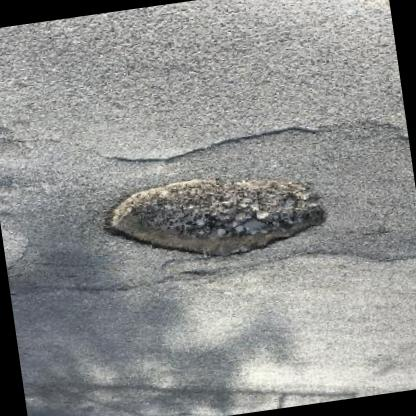pothole: (94, 162, 333, 279)
